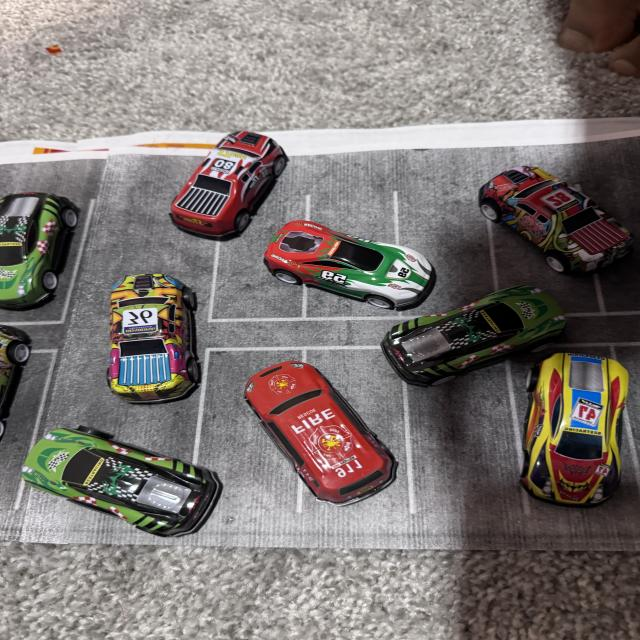Car: (500, 338, 640, 544), (246, 345, 388, 528), (14, 437, 234, 550), (144, 103, 314, 240), (258, 182, 436, 310), (362, 278, 570, 376), (482, 136, 604, 289), (78, 280, 194, 394), (243, 245, 410, 320), (0, 188, 100, 284), (0, 327, 35, 453)
